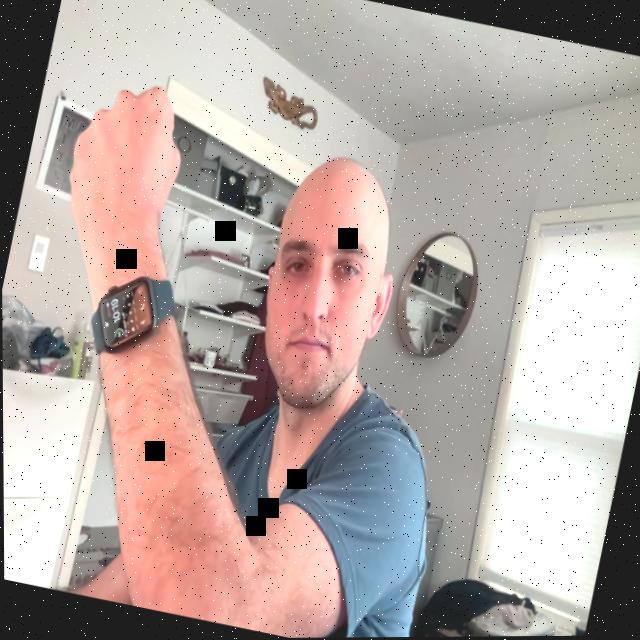Rock: (57, 68, 199, 248)
